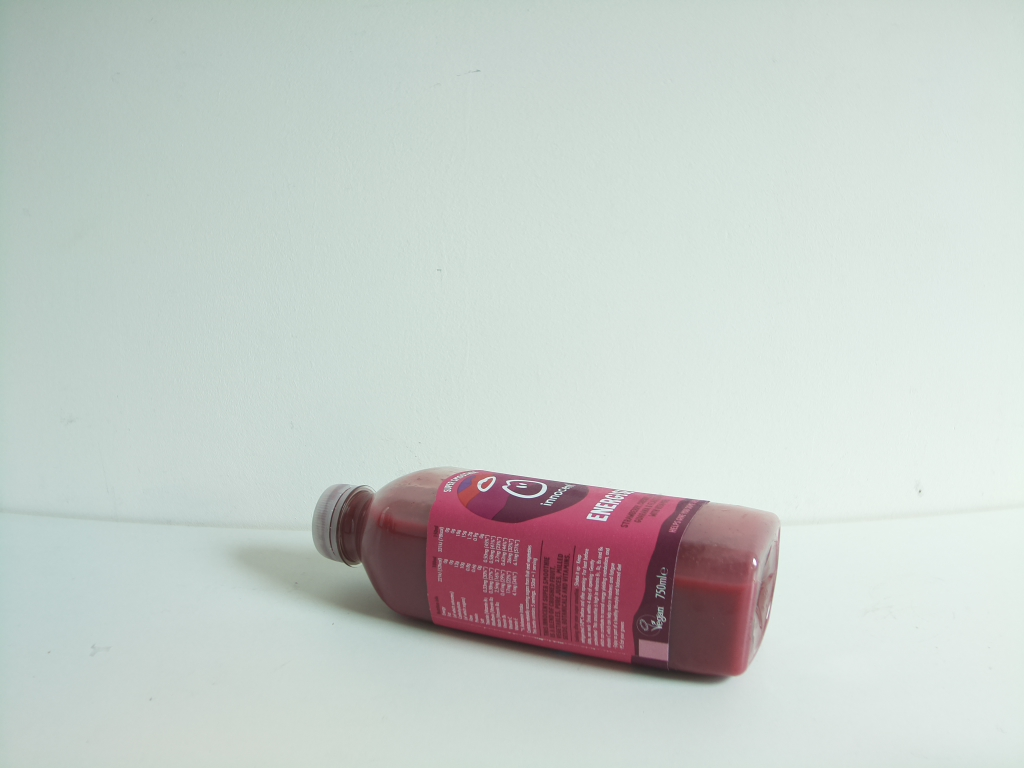juice: (310, 466, 789, 682)
